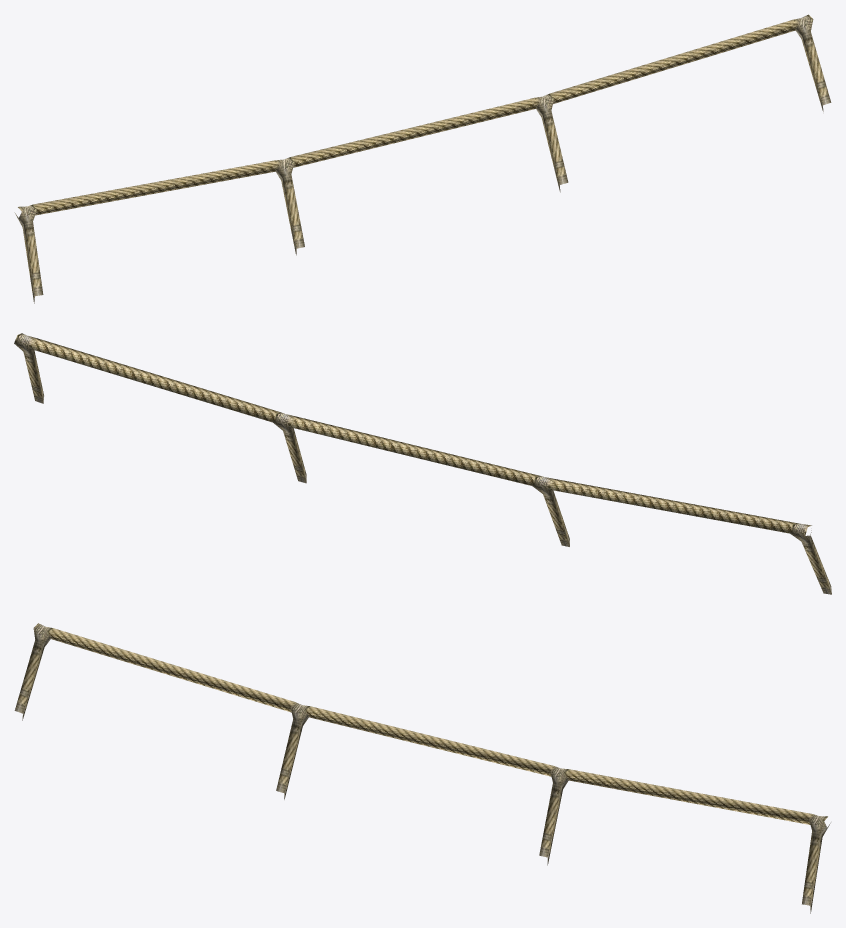
Rendered from Mission8_RopeBridge_B2.glb.
3 renders of one model, top to bottom at view 1: azimuth 30°, elevation 25°; view 2: azimuth 150°, elevation 25°; view 3: azimuth 330°, elevation 25°, orthographic.
Parts seen in each view (by area): view 1: MISSION8_ROPEBRIDGE_B2; view 2: MISSION8_ROPEBRIDGE_B2; view 3: MISSION8_ROPEBRIDGE_B2.
Part boxes in pixels (left/top/right/bottom): MISSION8_ROPEBRIDGE_B2: left=14, top=14, right=831, bottom=303; MISSION8_ROPEBRIDGE_B2: left=14, top=333, right=831, bottom=594; MISSION8_ROPEBRIDGE_B2: left=14, top=623, right=830, bottom=913.
Bounding box in the file's own units: 12.23 × 1.44 × 0.624.
3 materials, 3 textured.
